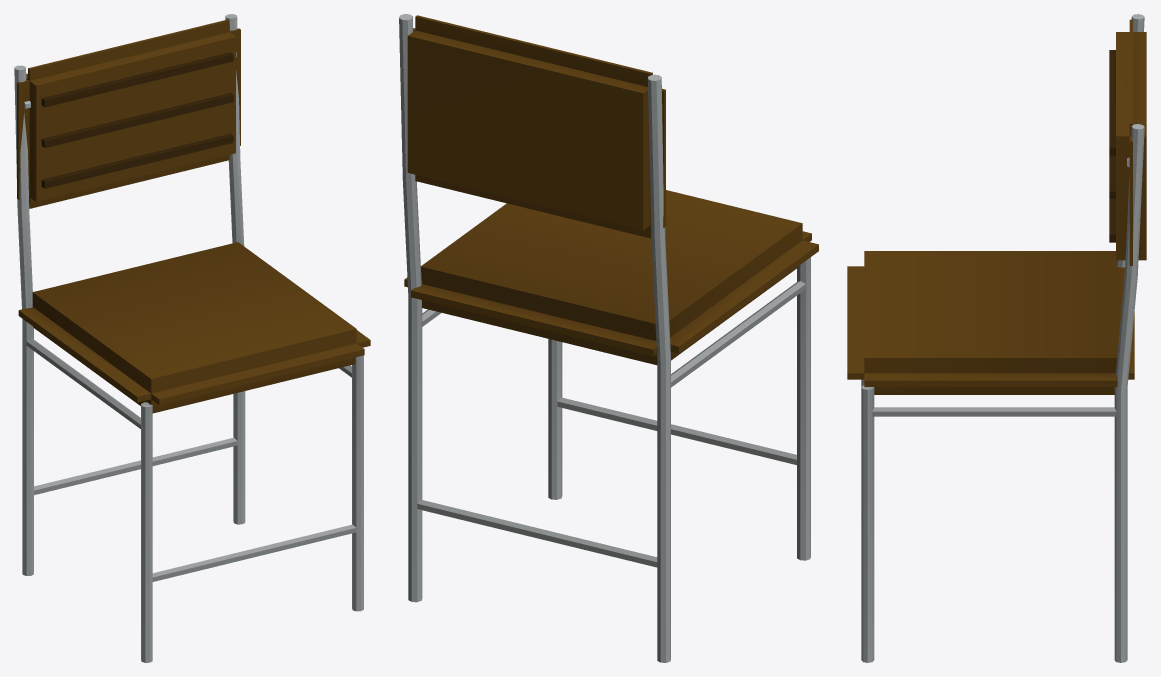
The model's file is rest-chair-chrome.glb.
3 renders of one model, left to right at view 1: azimuth 30°, elevation 25°; view 2: azimuth 150°, elevation 25°; view 3: azimuth 270°, elevation 25°, orthographic. The views are drawn at different scales.
Parts seen in each view (by area): view 1: upholstery__vinyl, frame__chrome; view 2: upholstery__vinyl, frame__chrome; view 3: upholstery__vinyl, frame__chrome.
Boxes of the visible parts, x1=… form: upholstery__vinyl: x1=17, y1=19, x2=370, y2=413; frame__chrome: x1=14, y1=14, x2=363, y2=662; upholstery__vinyl: x1=404, y1=15, x2=818, y2=365; frame__chrome: x1=399, y1=14, x2=810, y2=662; upholstery__vinyl: x1=847, y1=19, x2=1146, y2=394; frame__chrome: x1=861, y1=14, x2=1144, y2=662.
Bounding box in the file's own units: 0.42 × 0.8604 × 0.4375.
